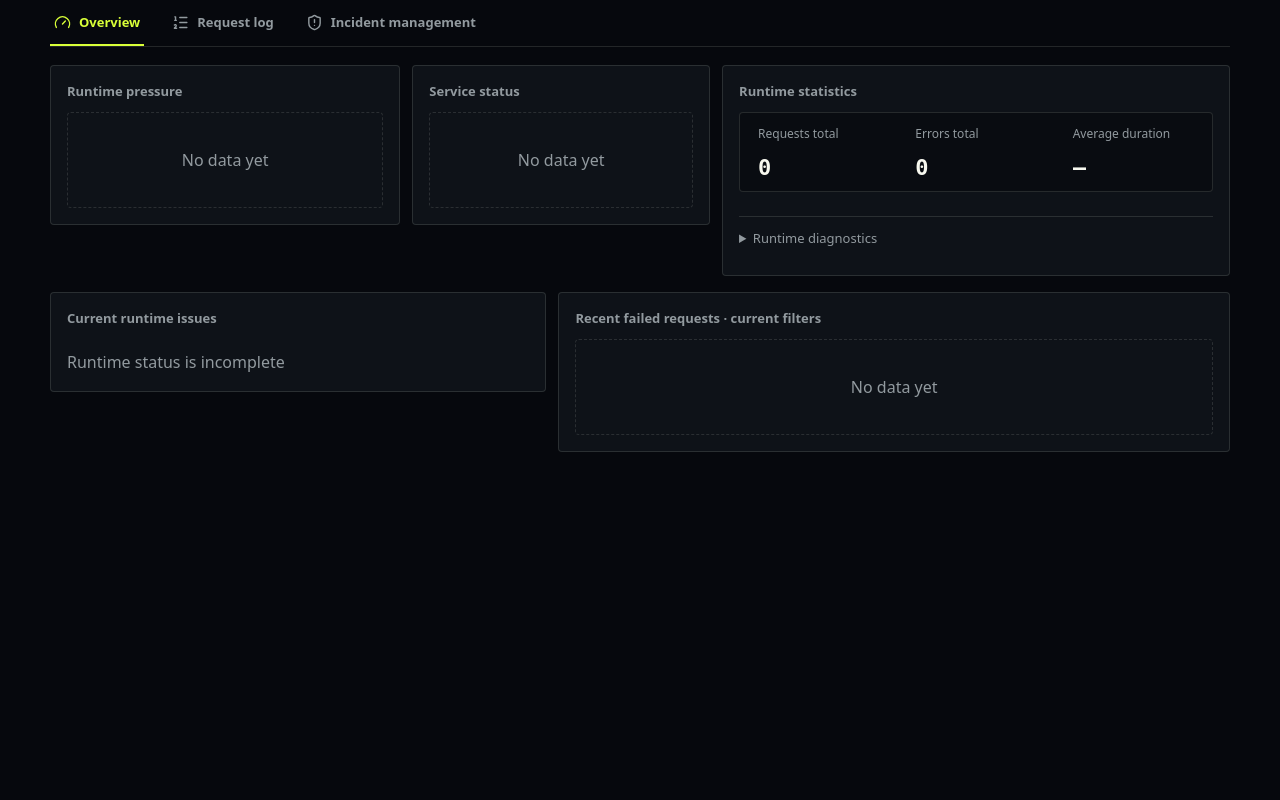
Scenario: operations workspace boundaries › distinguishes unavailable queue depth from zero and formats fractional cache metrics
Press the mouse on the tab "Request log": (223, 23) top-left (168, 0), bottom-right (278, 46)
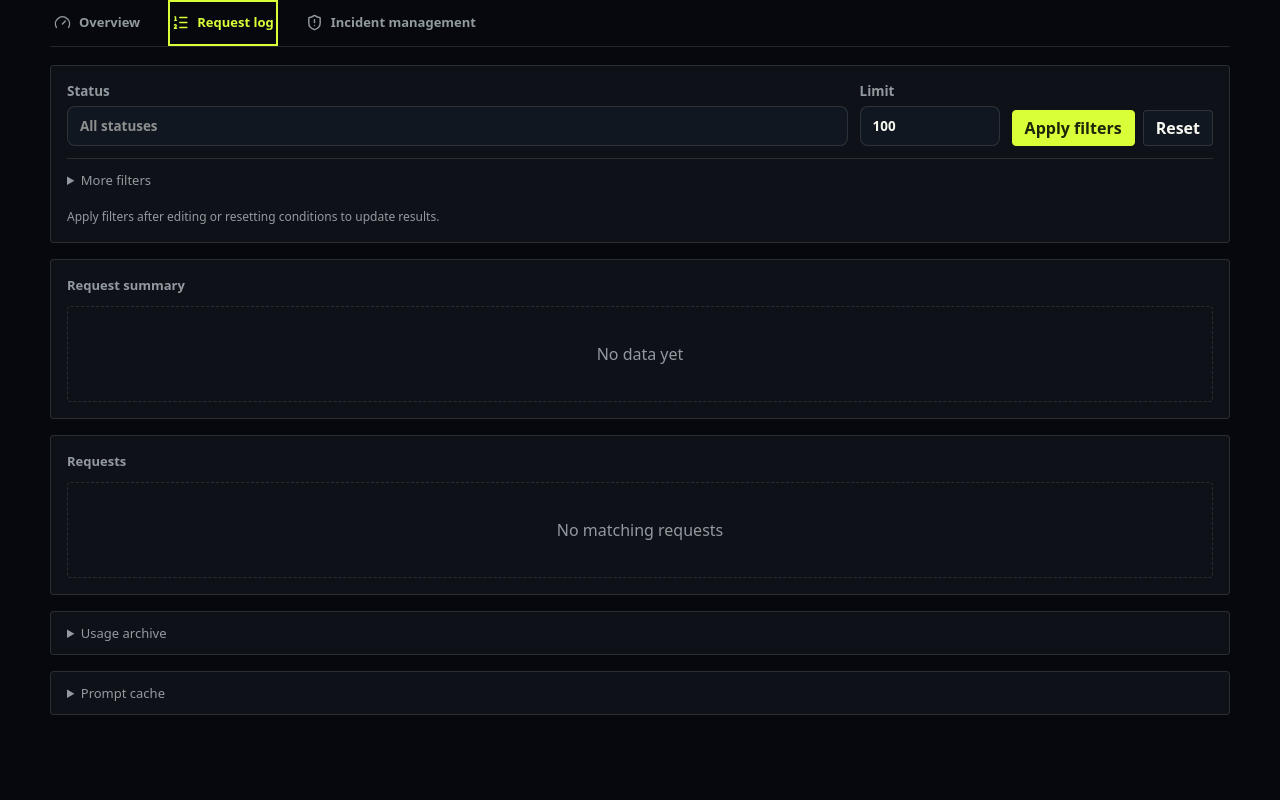
Click the heading "Usage archive": (124, 633) top-left (81, 624), bottom-right (166, 642)
(page scrolled)
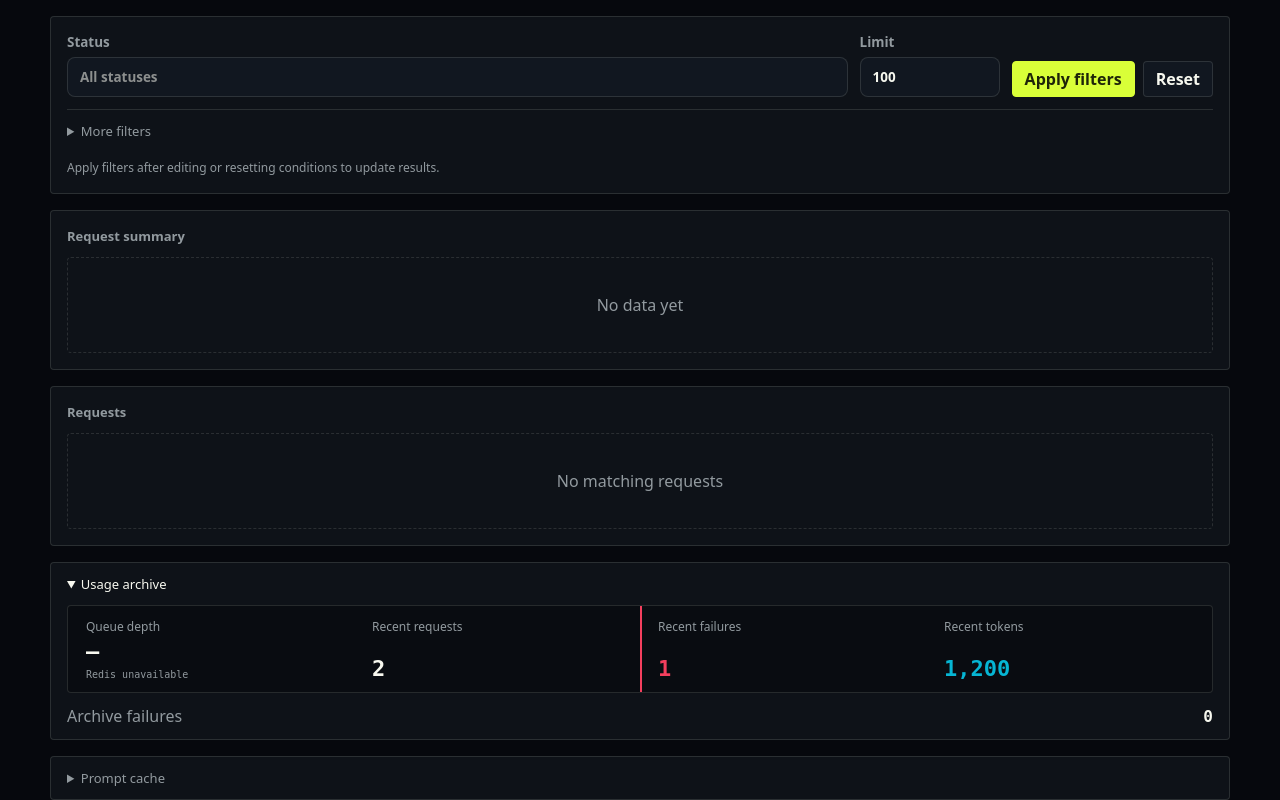
Click the heading "Prompt cache": (123, 778) top-left (81, 769), bottom-right (165, 787)
(page scrolled)
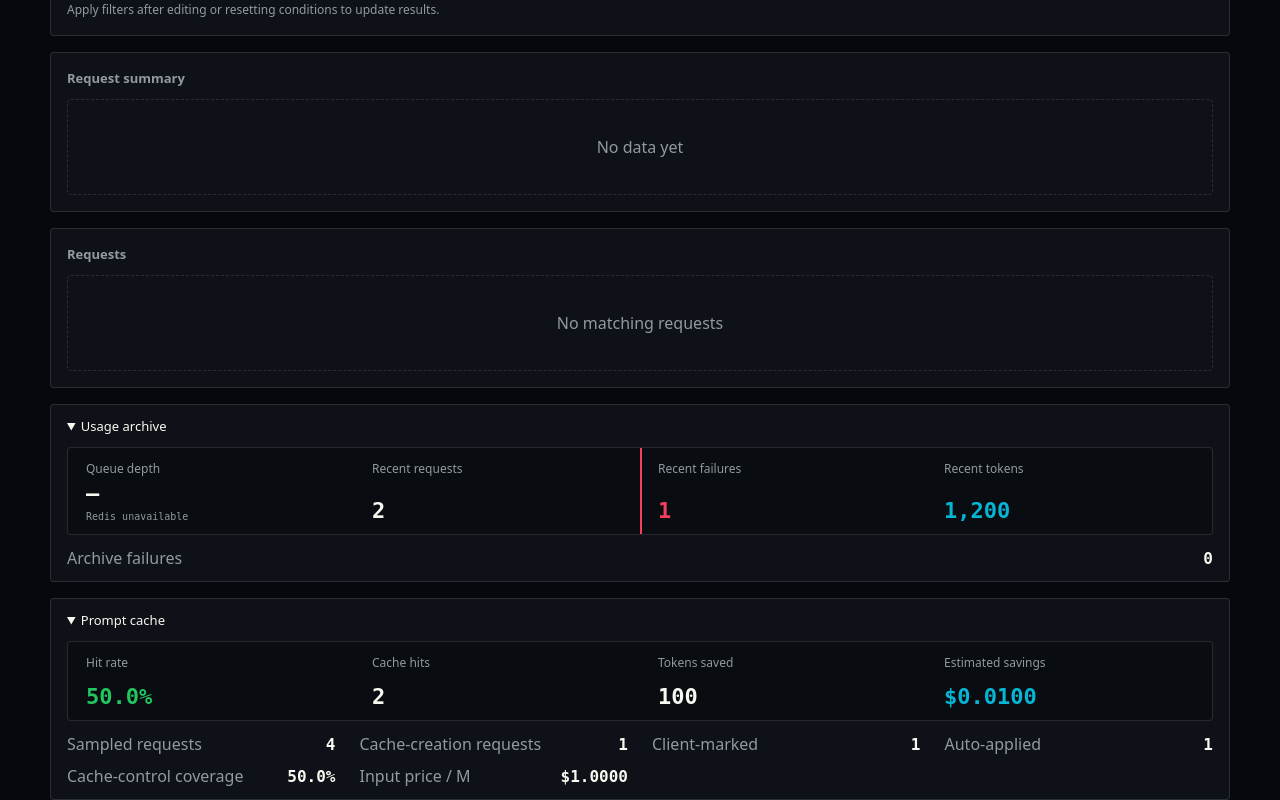
Expected: the text "Queue depth" shows "Redis unavailable", top-left (86, 511), bottom-right (188, 522)
Expected: the text "50.0%" is shown 2 times, top-left (86, 684), bottom-right (152, 709); top-left (287, 767), bottom-right (336, 786)
Expected: the text "$0.0100" is shown, top-left (944, 684), bottom-right (1037, 709)
